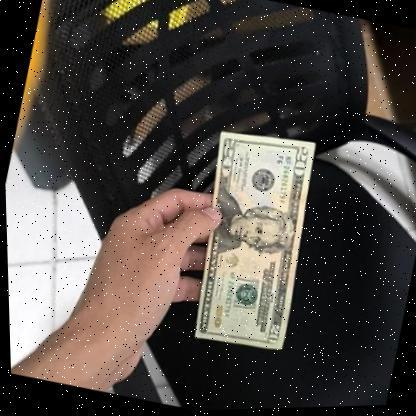twenty-front: (171, 119, 329, 359)
